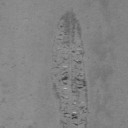oxide scale of plate system: (50, 9, 92, 128)
